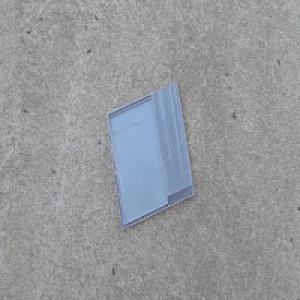PlasticPart: (105, 79, 196, 231)
